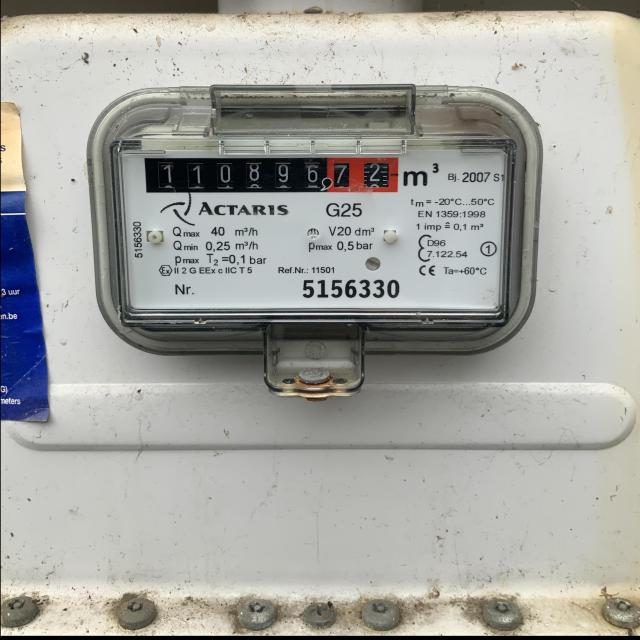gaz_meter: (107, 130, 516, 322)
indication: (143, 156, 399, 195)
